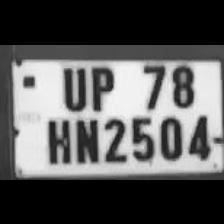0: (154, 110, 184, 160)
2: (100, 113, 126, 163)
4: (184, 108, 210, 160)
5: (126, 111, 156, 161)
7: (135, 58, 167, 108)
8: (166, 58, 196, 108)
H: (41, 113, 73, 165)
N: (70, 114, 100, 164)
P: (84, 60, 118, 110)
U: (56, 60, 89, 108)
